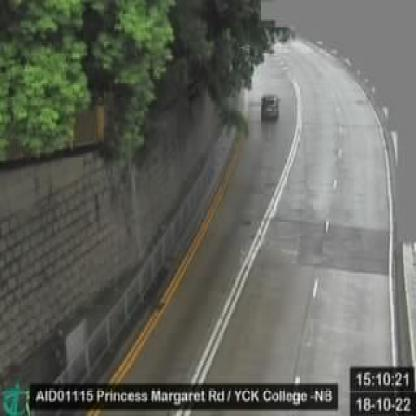Car: (258, 91, 282, 125)
